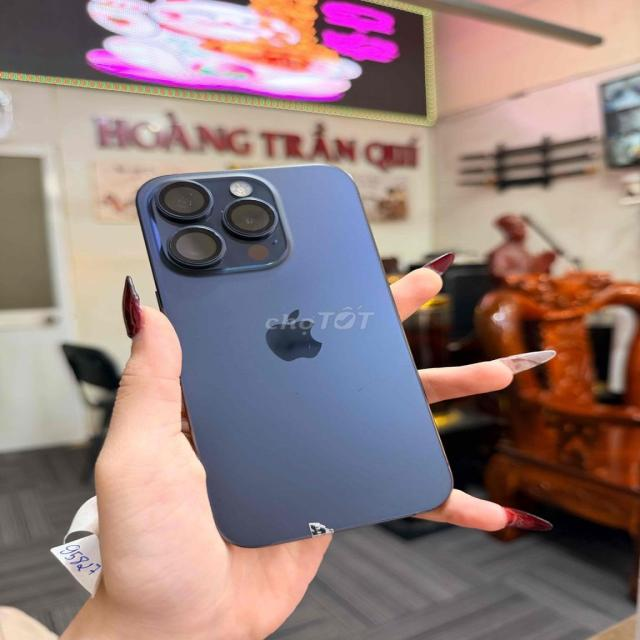gen_15: (110, 164, 475, 552)
